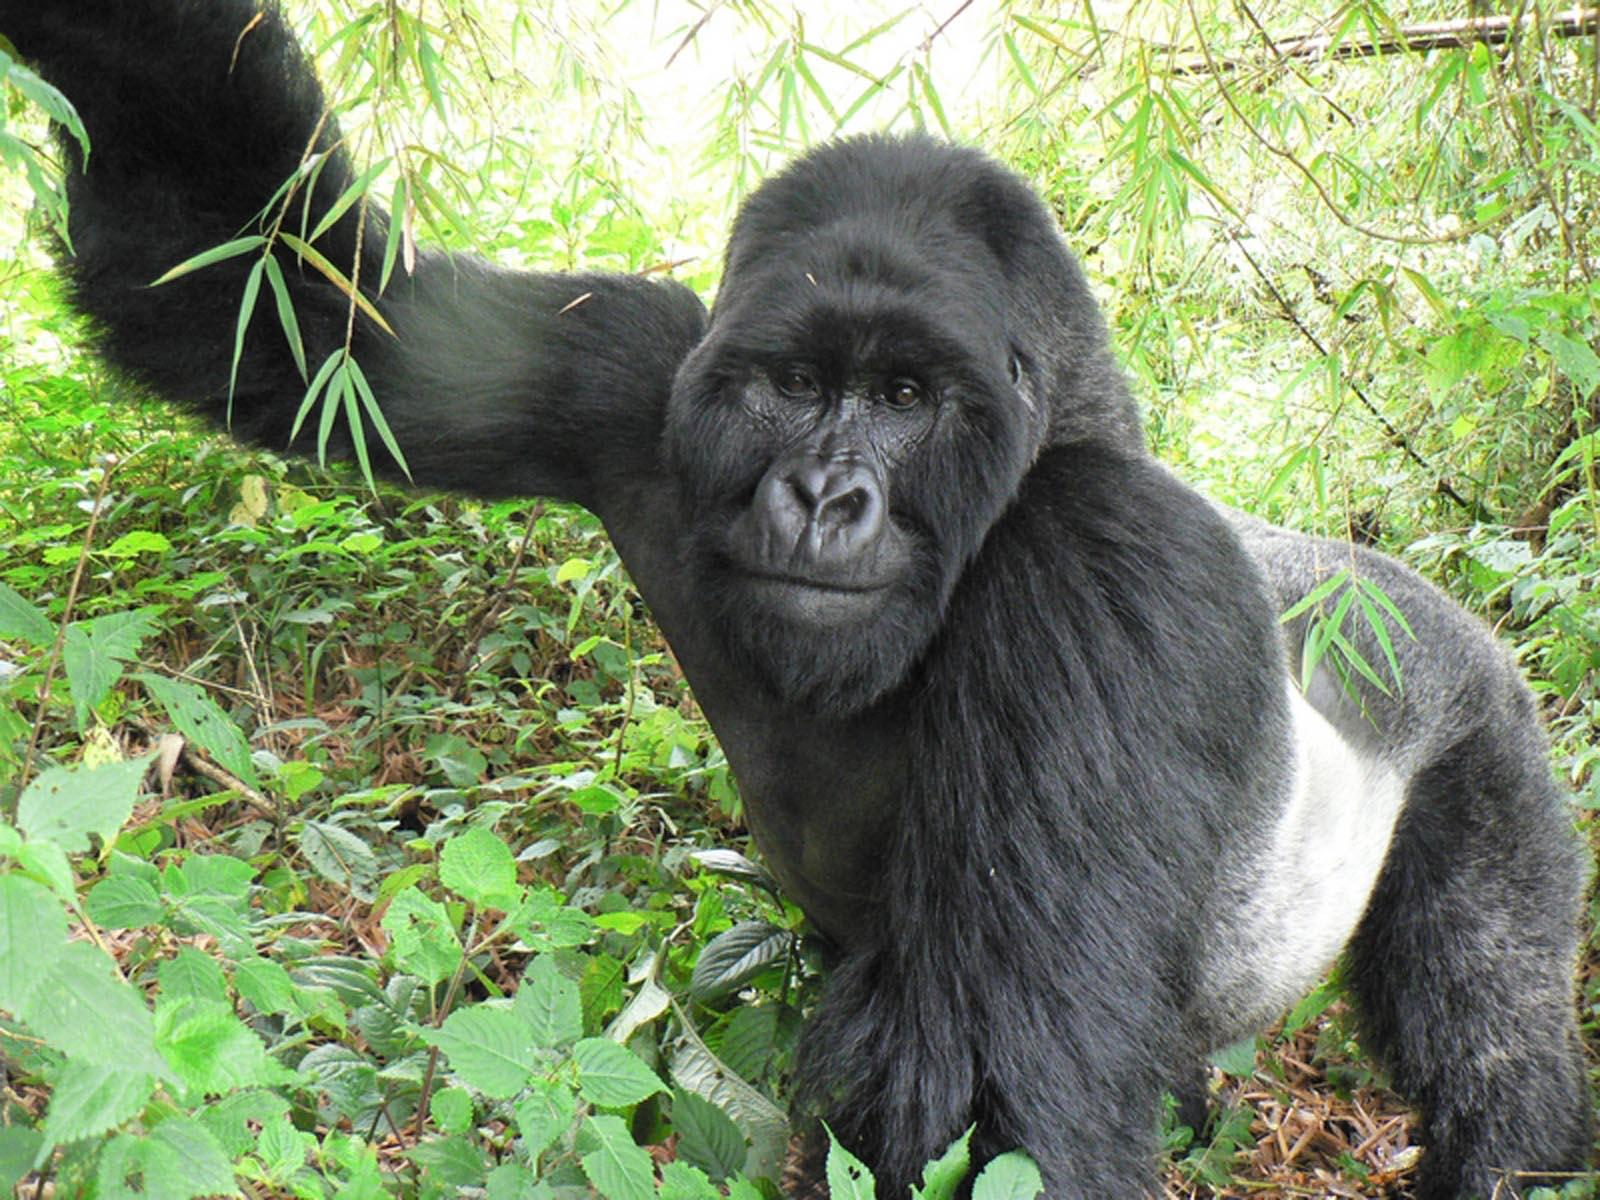goriile_montagne: (249, 10, 1600, 1181)
